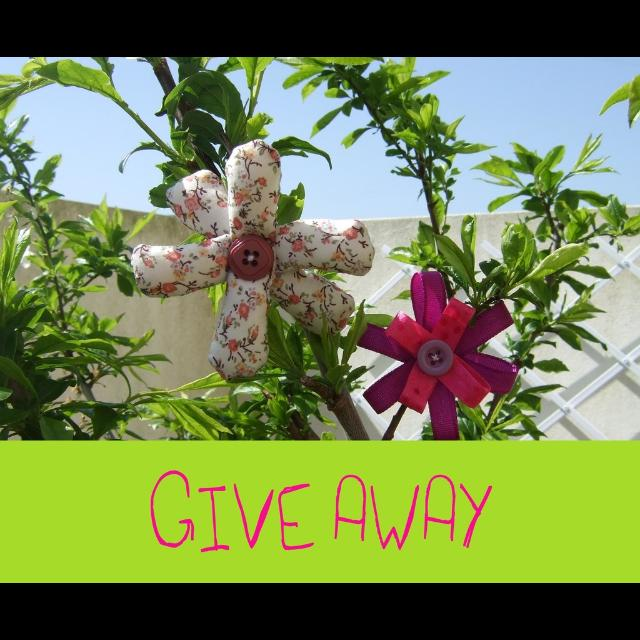Flower: (128, 136, 382, 384), (364, 273, 520, 422)
